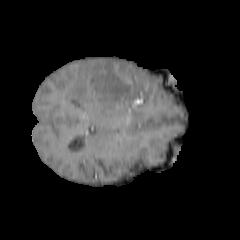glioma: (64, 59, 153, 118)
